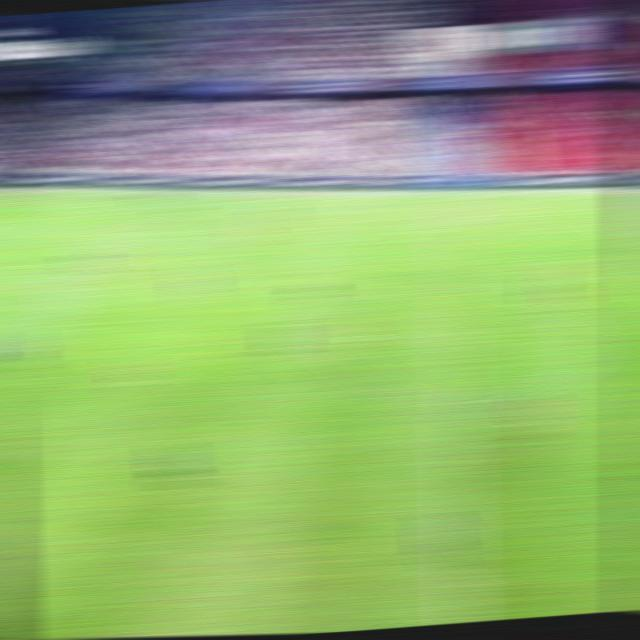bigarea_top_inner: (89, 225, 122, 240)
corner: (0, 184, 36, 197)
halfcircle_bottom: (437, 386, 481, 412)
halfcircle_top: (434, 271, 479, 298)
midline_top_intersection: (435, 187, 471, 203)
top_arc_area_intersection: (33, 276, 67, 292)
